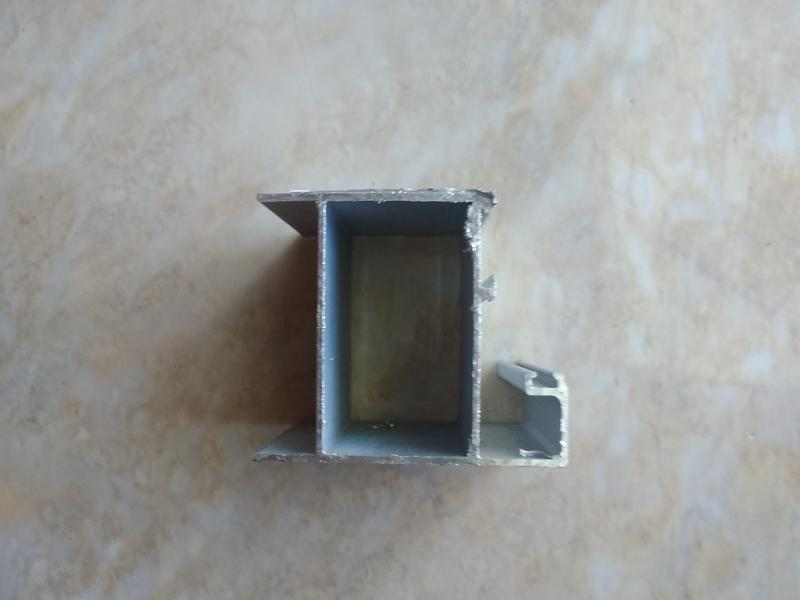Aluminium_2: (186, 154, 617, 501)
